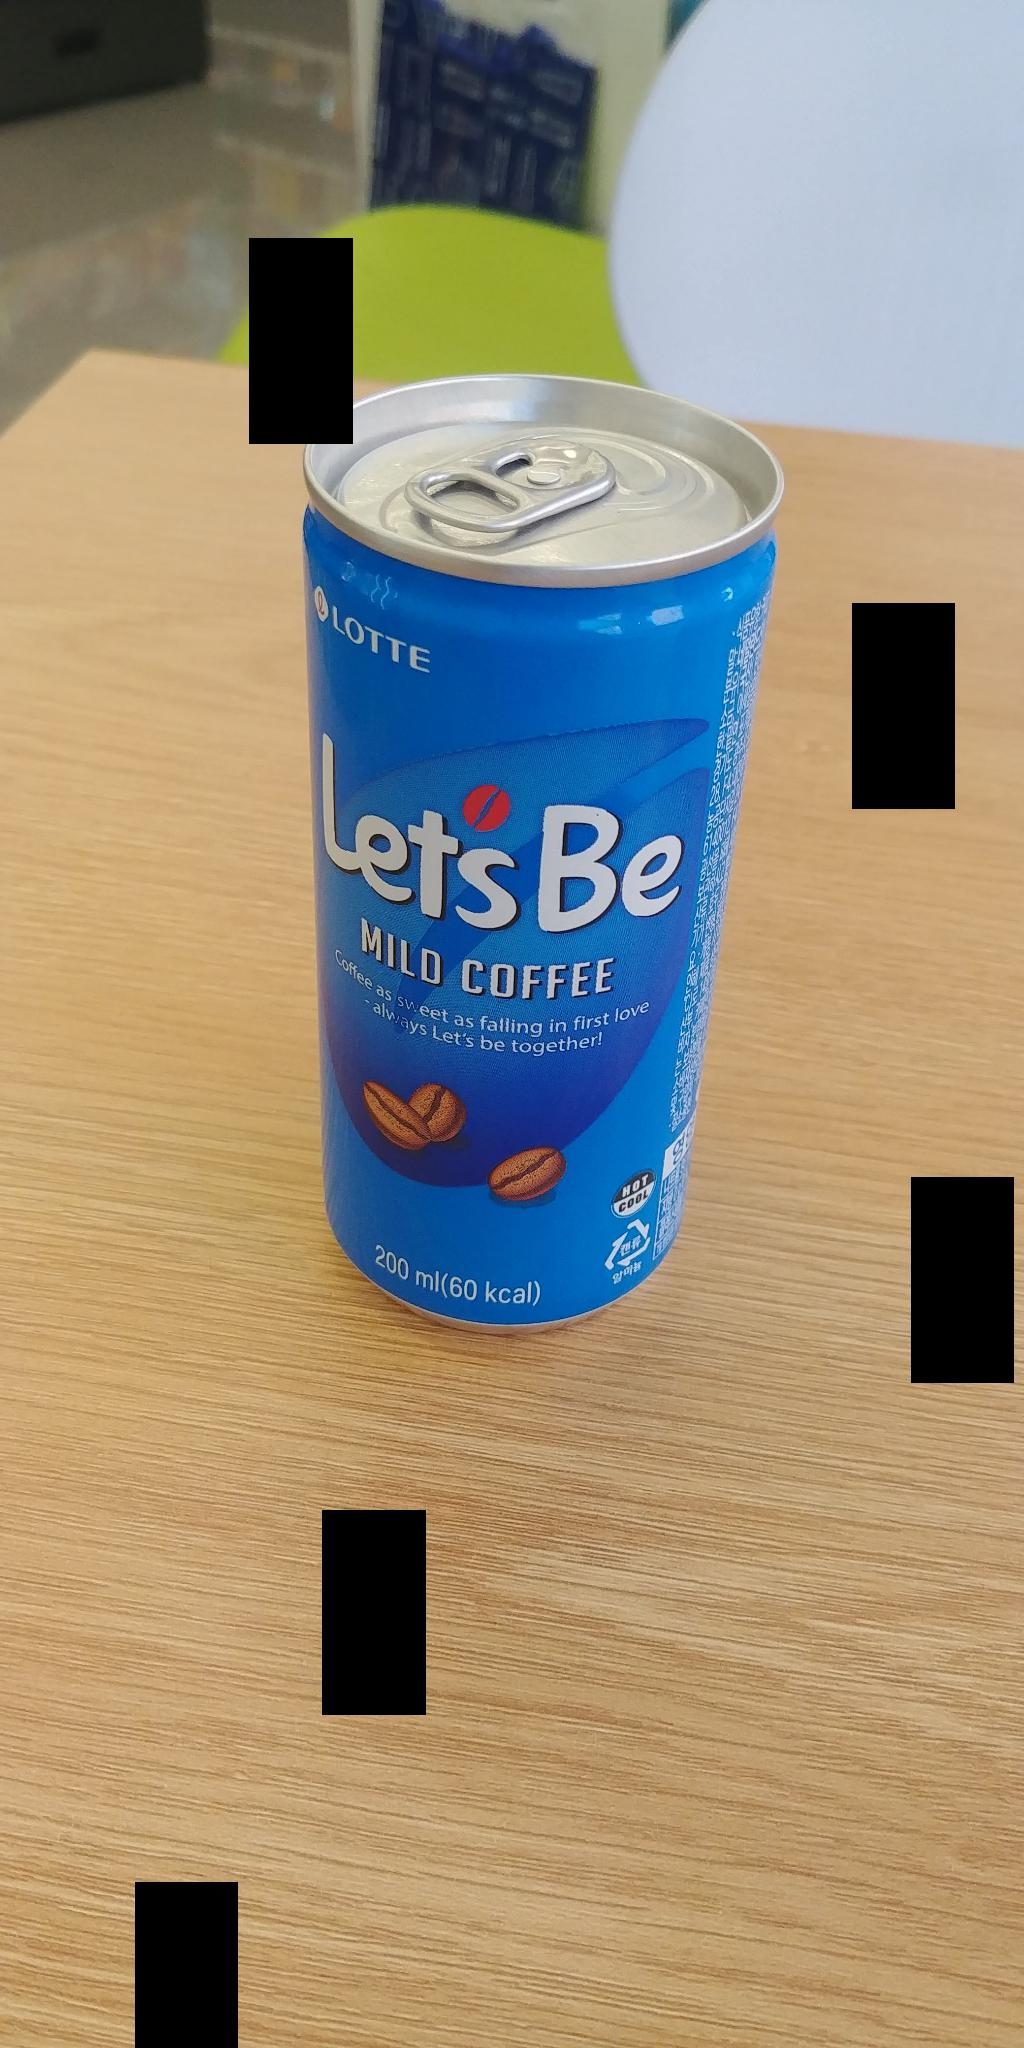letsbe: (287, 379, 798, 1323)
